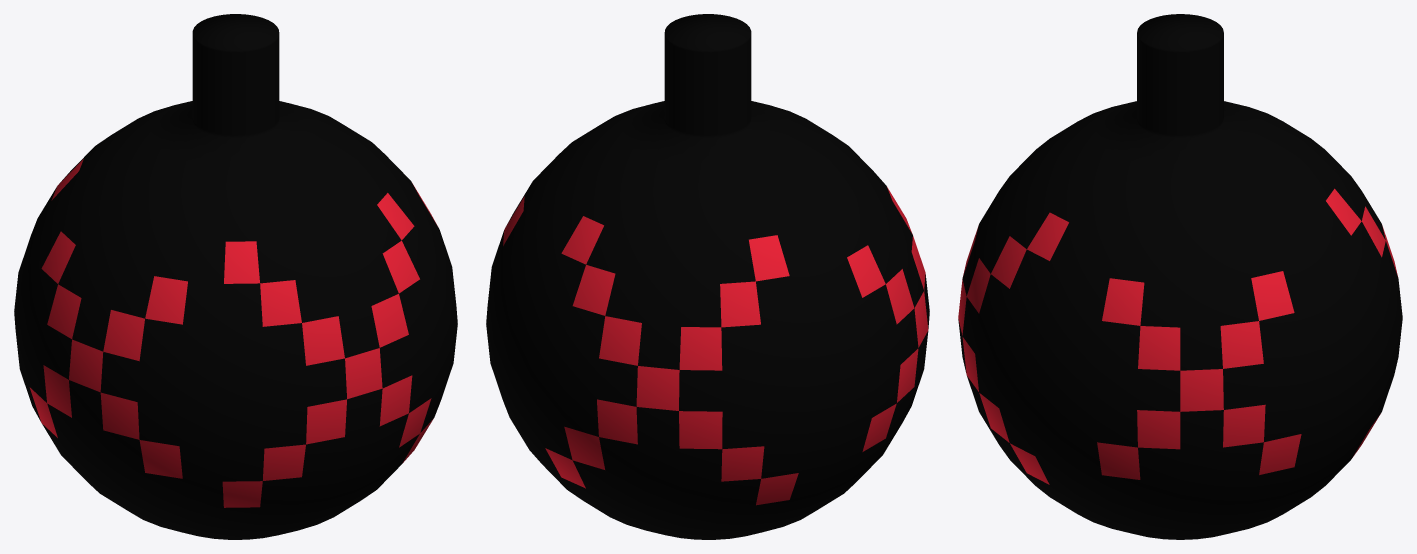
The model's file is bomb.fbx.
The picture shows the model from 3 angles, left to right: view 1: azimuth 30°, elevation 25°; view 2: azimuth 150°, elevation 25°; view 3: azimuth 270°, elevation 25°; orthographic projection.
Visible parts, largest first — view 1: Bomb; view 2: Bomb; view 3: Bomb.
Part boxes in pixels (left/top/right/bottom): Bomb: left=14, top=14, right=457, bottom=539; Bomb: left=486, top=14, right=929, bottom=539; Bomb: left=958, top=14, right=1402, bottom=539.
Size of the model in its own units: 36.43 by 44.39 by 36.43.
